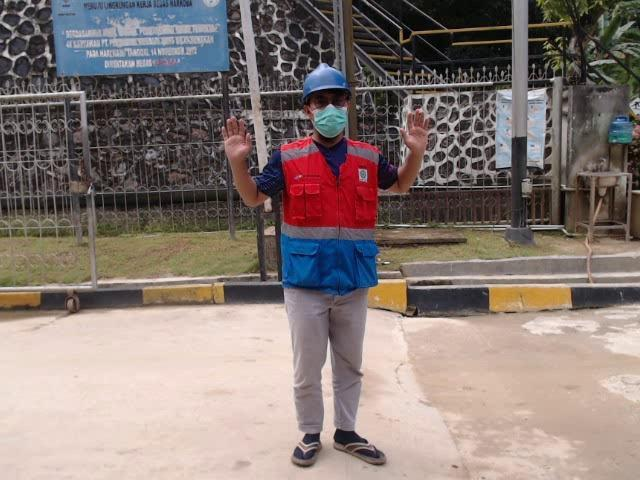helmet: (302, 62, 352, 98)
